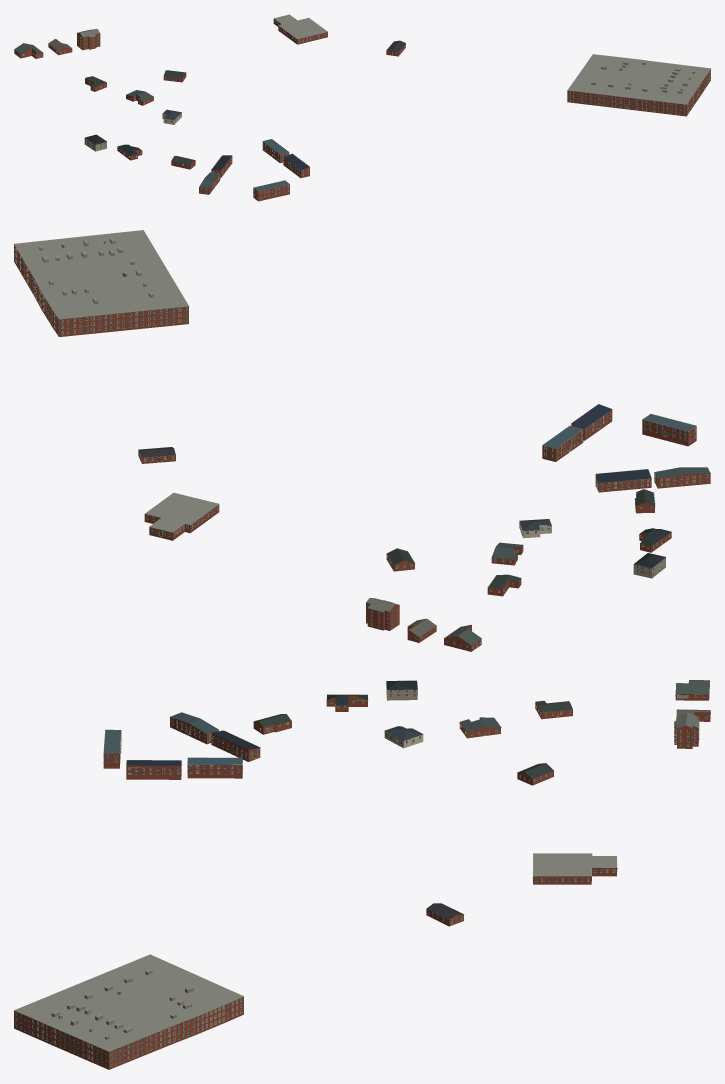
The picture shows the model from 3 angles, top to bottom: view 1: azimuth 30°, elevation 25°; view 2: azimuth 150°, elevation 25°; view 3: azimuth 270°, elevation 25°; orthographic projection. The views are drawn at different scales.
Parts seen in each view (by area): view 1: -5_2_596122286_0; view 2: -5_2_596122286_0; view 3: -5_2_596122286_0.
Part boxes in pixels (bbox=[...]): -5_2_596122286_0: bbox=[14, 14, 710, 201]; -5_2_596122286_0: bbox=[14, 230, 710, 651]; -5_2_596122286_0: bbox=[14, 680, 710, 1069].
Size of the model in its own units: 556 by 29.18 by 416.
